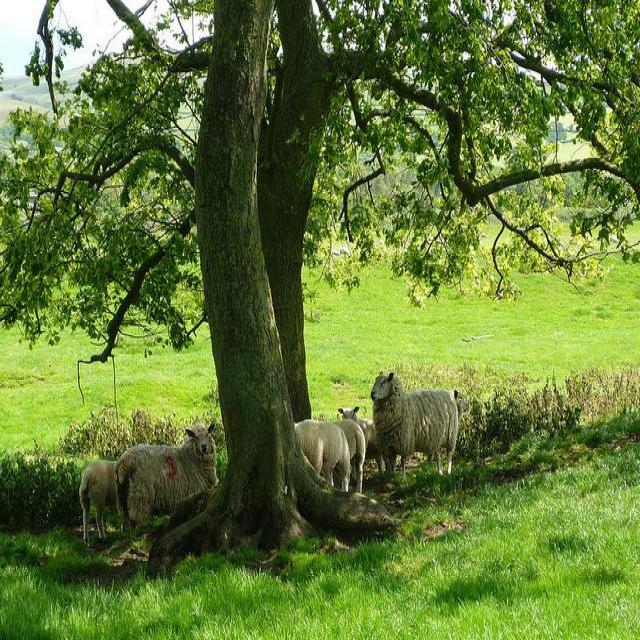Sheep: (117, 428, 220, 548), (373, 369, 459, 478), (79, 452, 128, 545), (294, 421, 353, 494), (336, 406, 388, 474), (331, 422, 366, 493)
